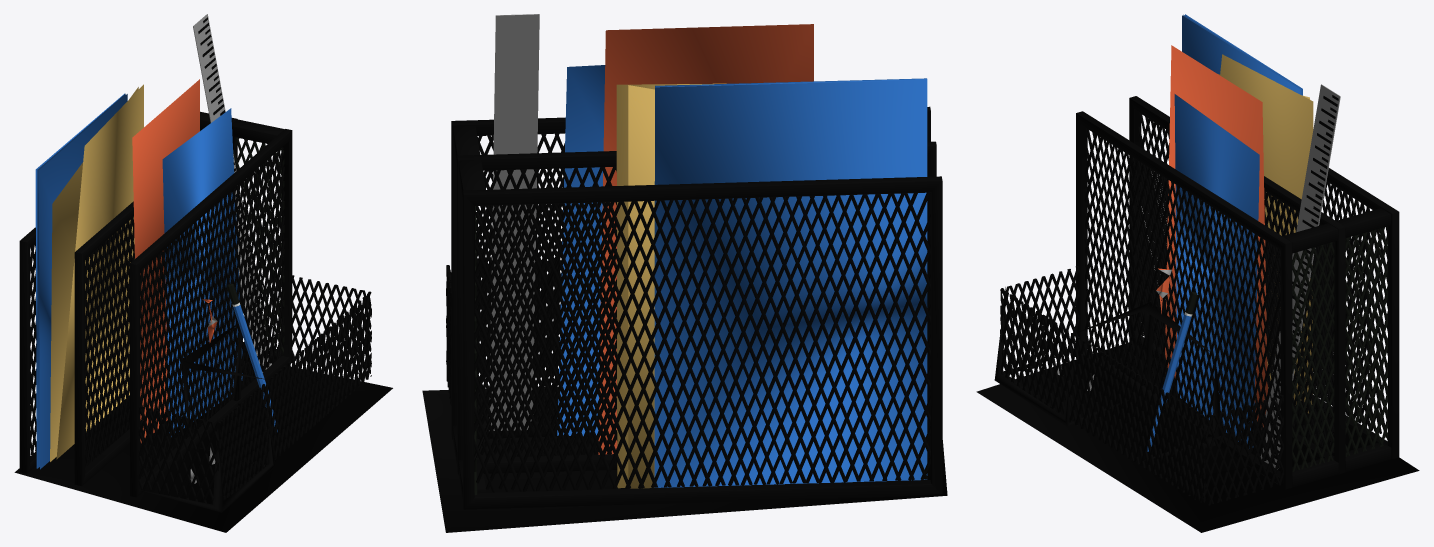
File: DeskOrganizer.glb
3 views of the same model, side by side, from view 1: azimuth 30°, elevation 25°; view 2: azimuth 150°, elevation 25°; view 3: azimuth 270°, elevation 25° (orthographic). The views are drawn at different scales.
Parts seen in each view (by area): view 1: Cube.185; view 2: Cube.185; view 3: Cube.185.
Boxes of the visible parts, x1,y1,x2,y2 form: Cube.185: (14,14,392,532); Cube.185: (422,14,947,532); Cube.185: (976,14,1419,532).
Bounding box in the file's own units: 0.7331 × 0.6481 × 0.6956.
Materials: 1 (1 with a texture image).
